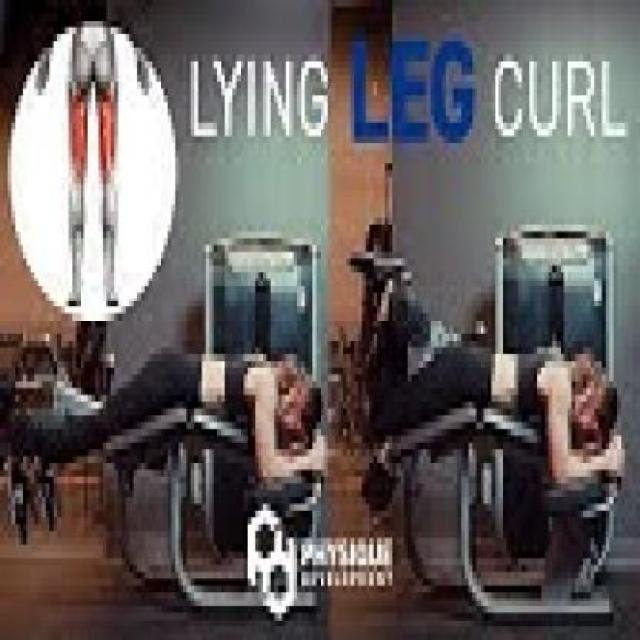reg curl machine: (0, 227, 328, 618), (342, 211, 629, 623)
